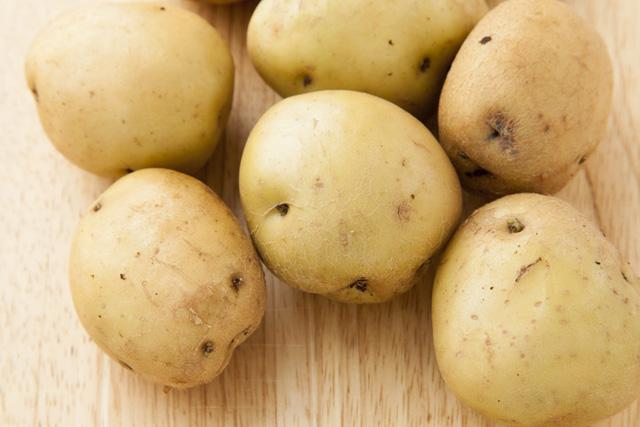potato: (61, 117, 266, 262), (441, 130, 636, 282), (246, 63, 460, 201), (451, 2, 617, 125)
